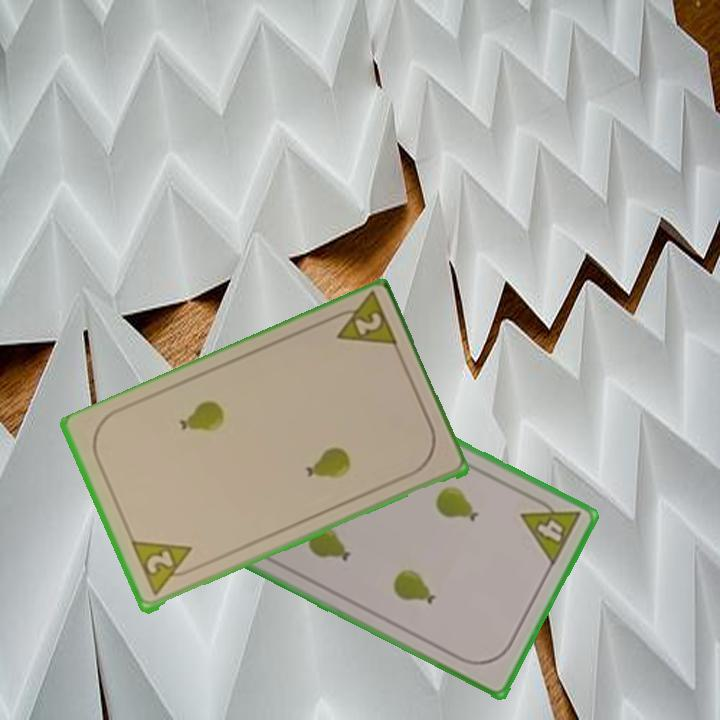2p: (323, 291, 401, 353), (128, 538, 201, 599)
4p: (517, 491, 584, 569)
